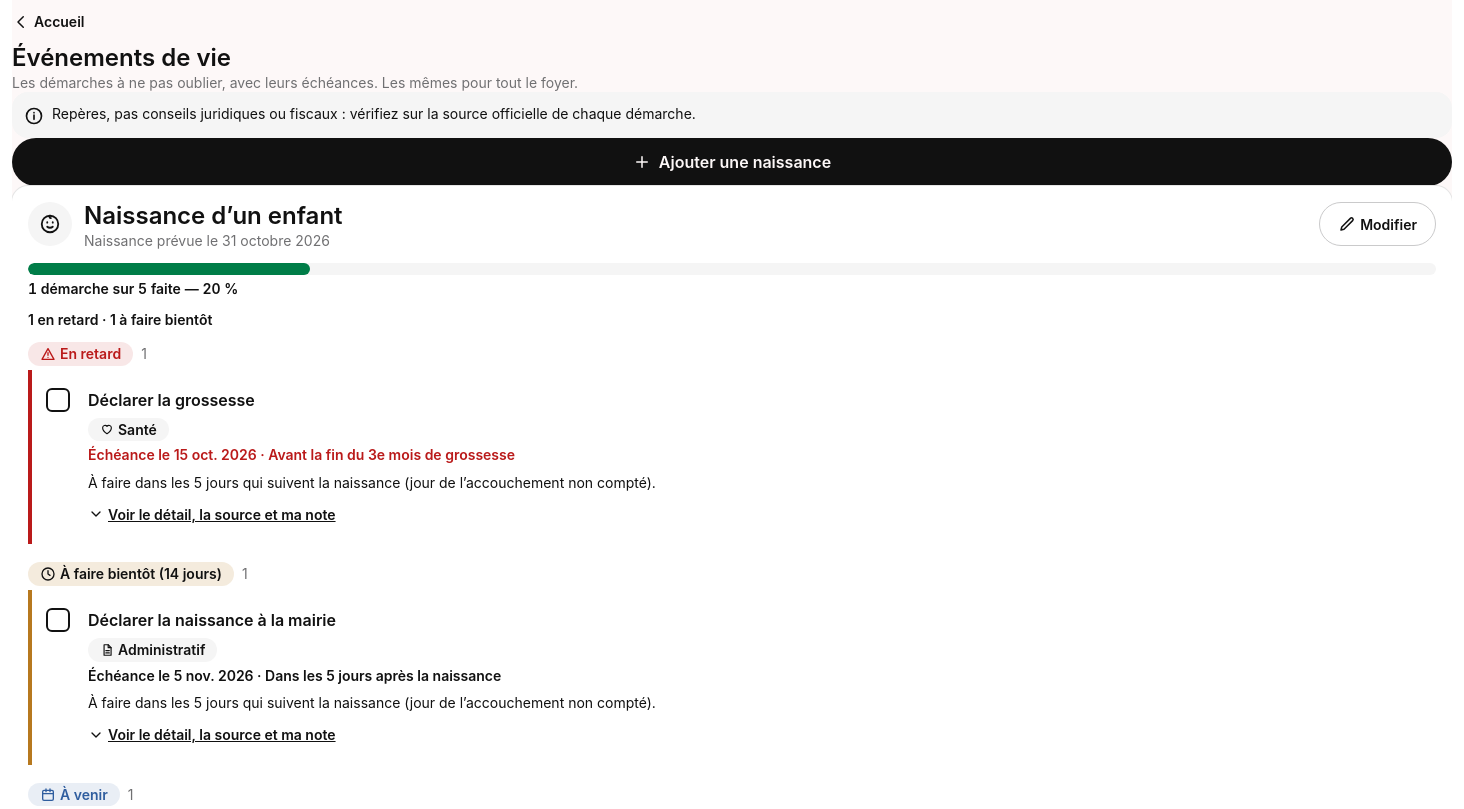
EvenementsPage › list › still works, without the verification date, when the catalog cannot be read
Step 1. Click the button "Voir le détail, la source et ma note" below "Administratif" → (212, 735), box [80,713,344,757]
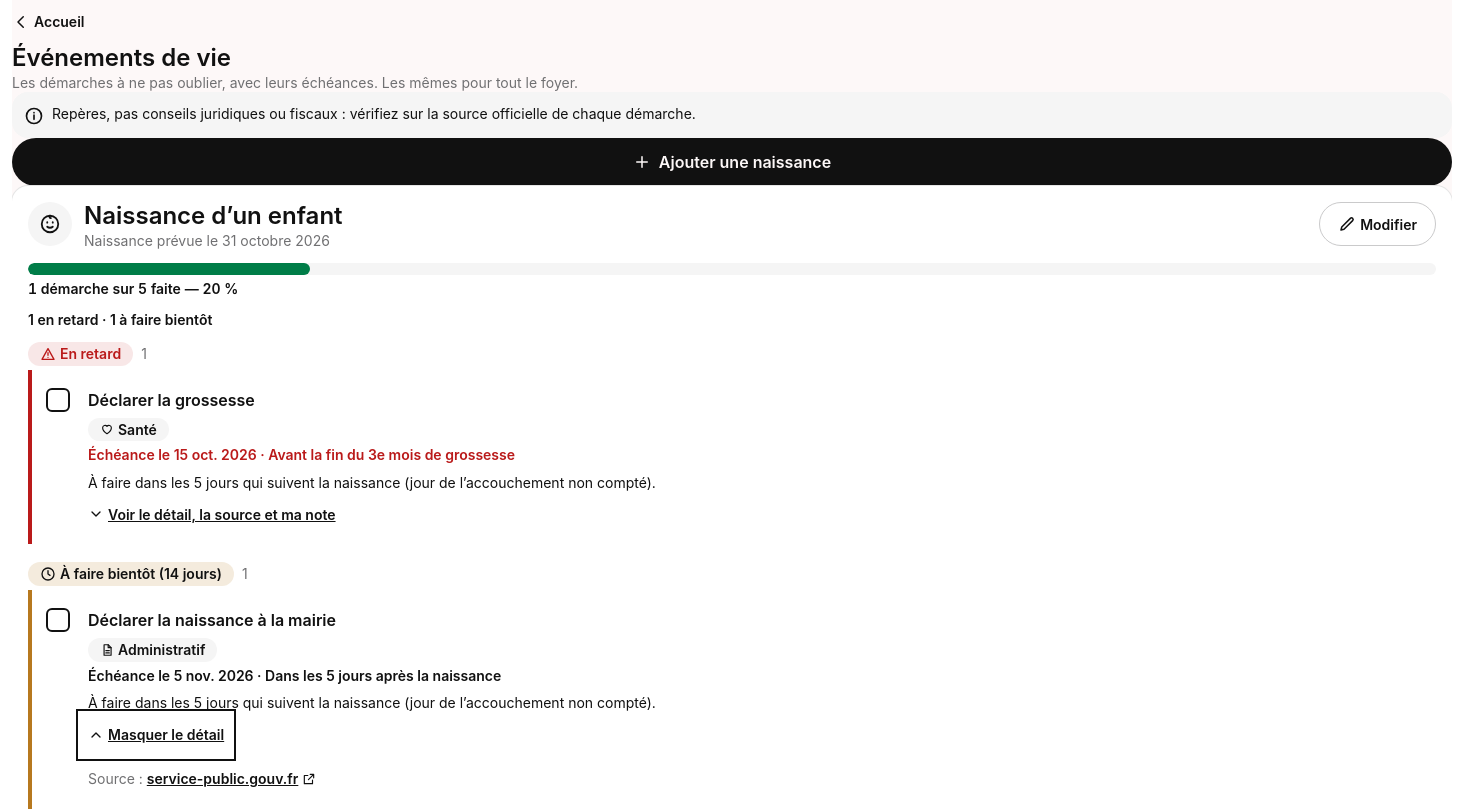
Result: the text "Source : service-public.gouv.fr" is shown at [88,770,359,796]
